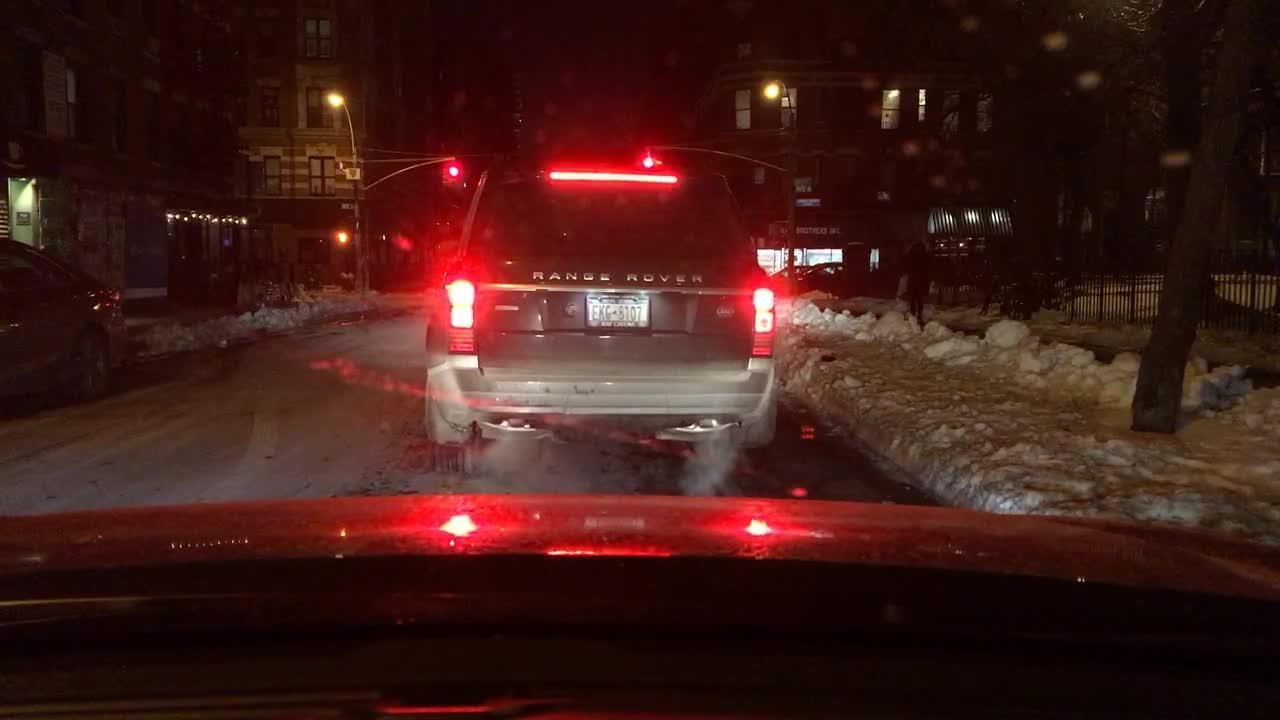range rover: (529, 267, 714, 285)
